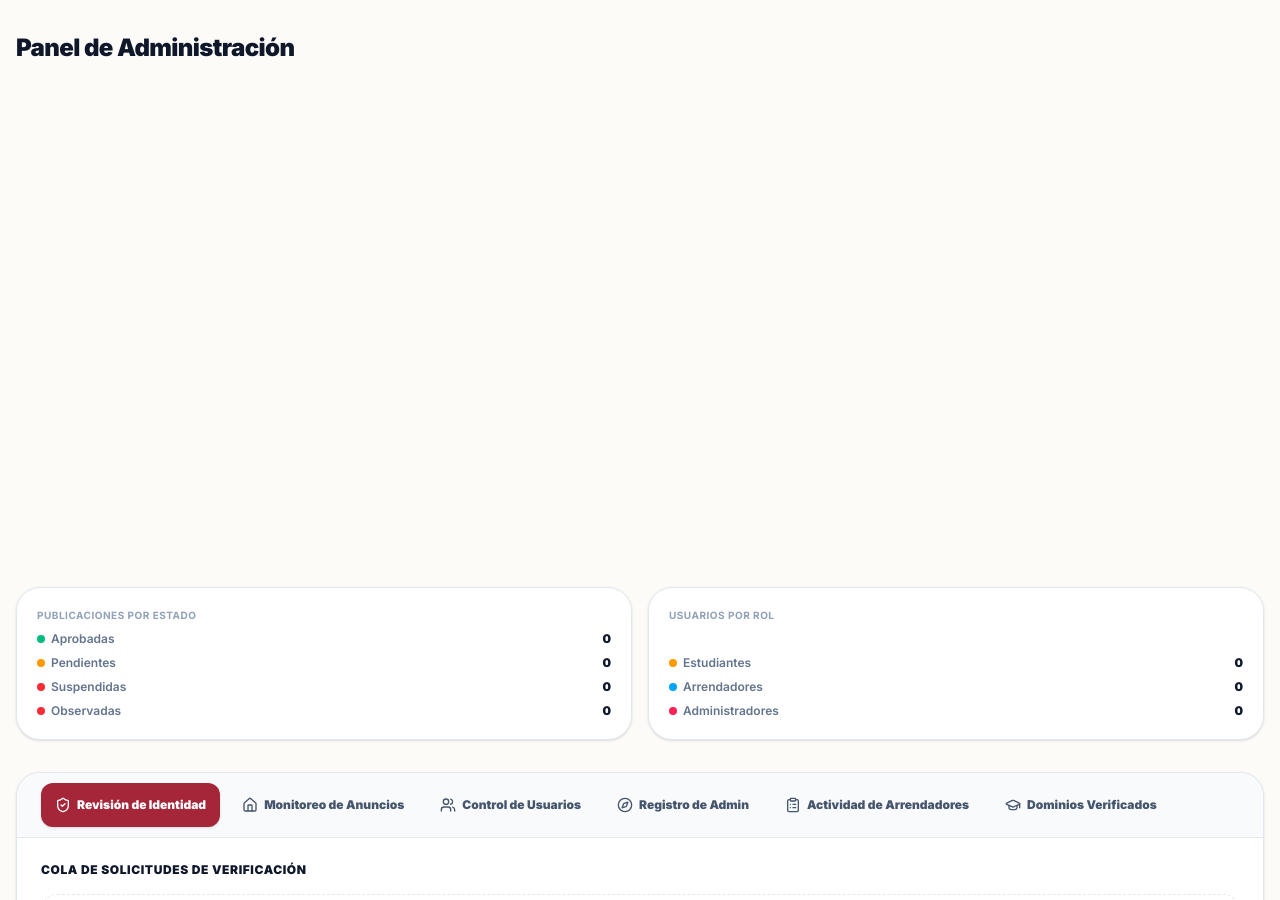
Test case: AdminPage › dominios: lista los dominios reales con su institucion
The image size is (1280, 900).
Click the button "Dominios Verificados" at (1081, 804), box [991,782,1171,826]
(page scrolled)
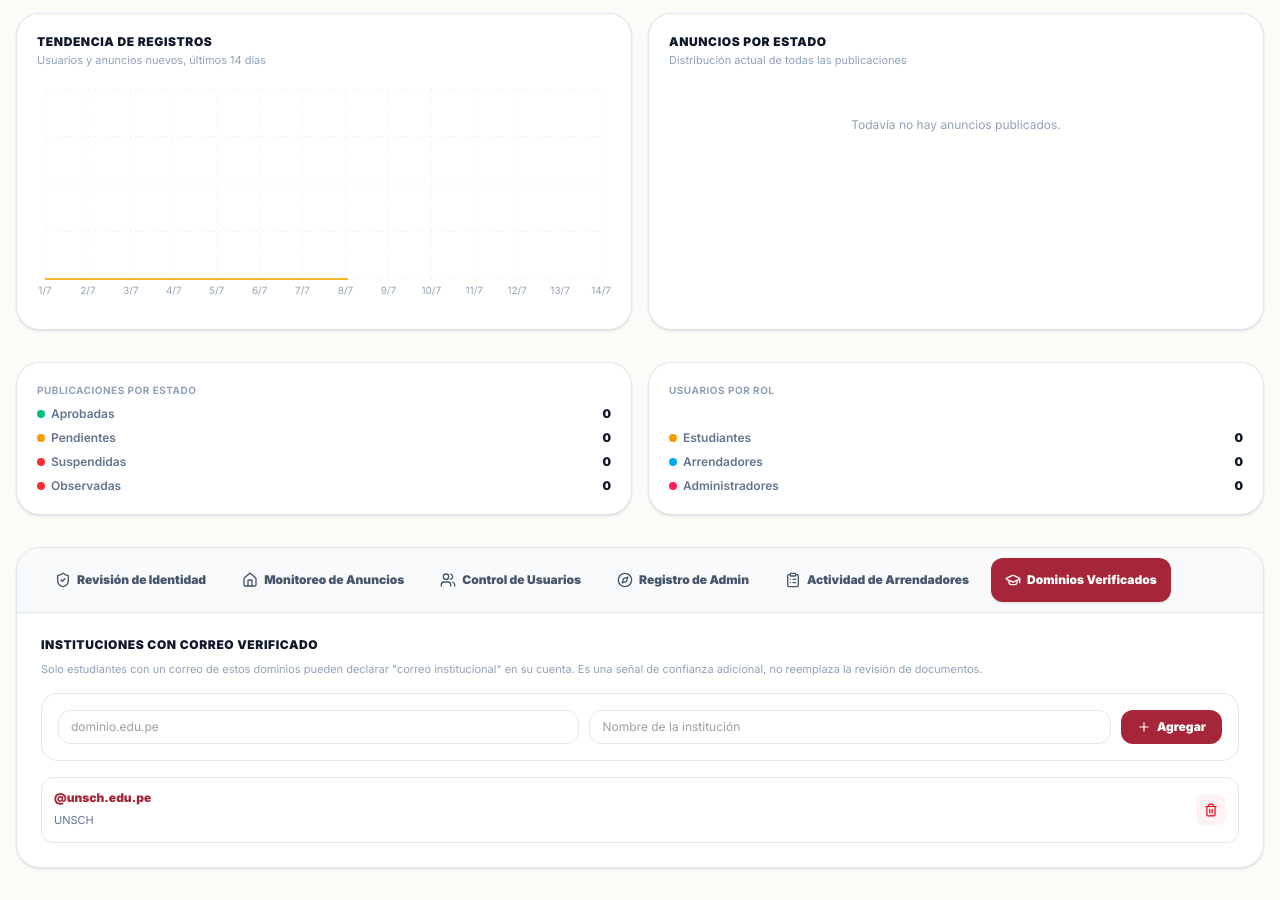
Check: the text "@unsch.edu.pe" is shown, box [54,790,151,806]
Check: the text "UNSCH" is shown, box [54,813,94,827]
